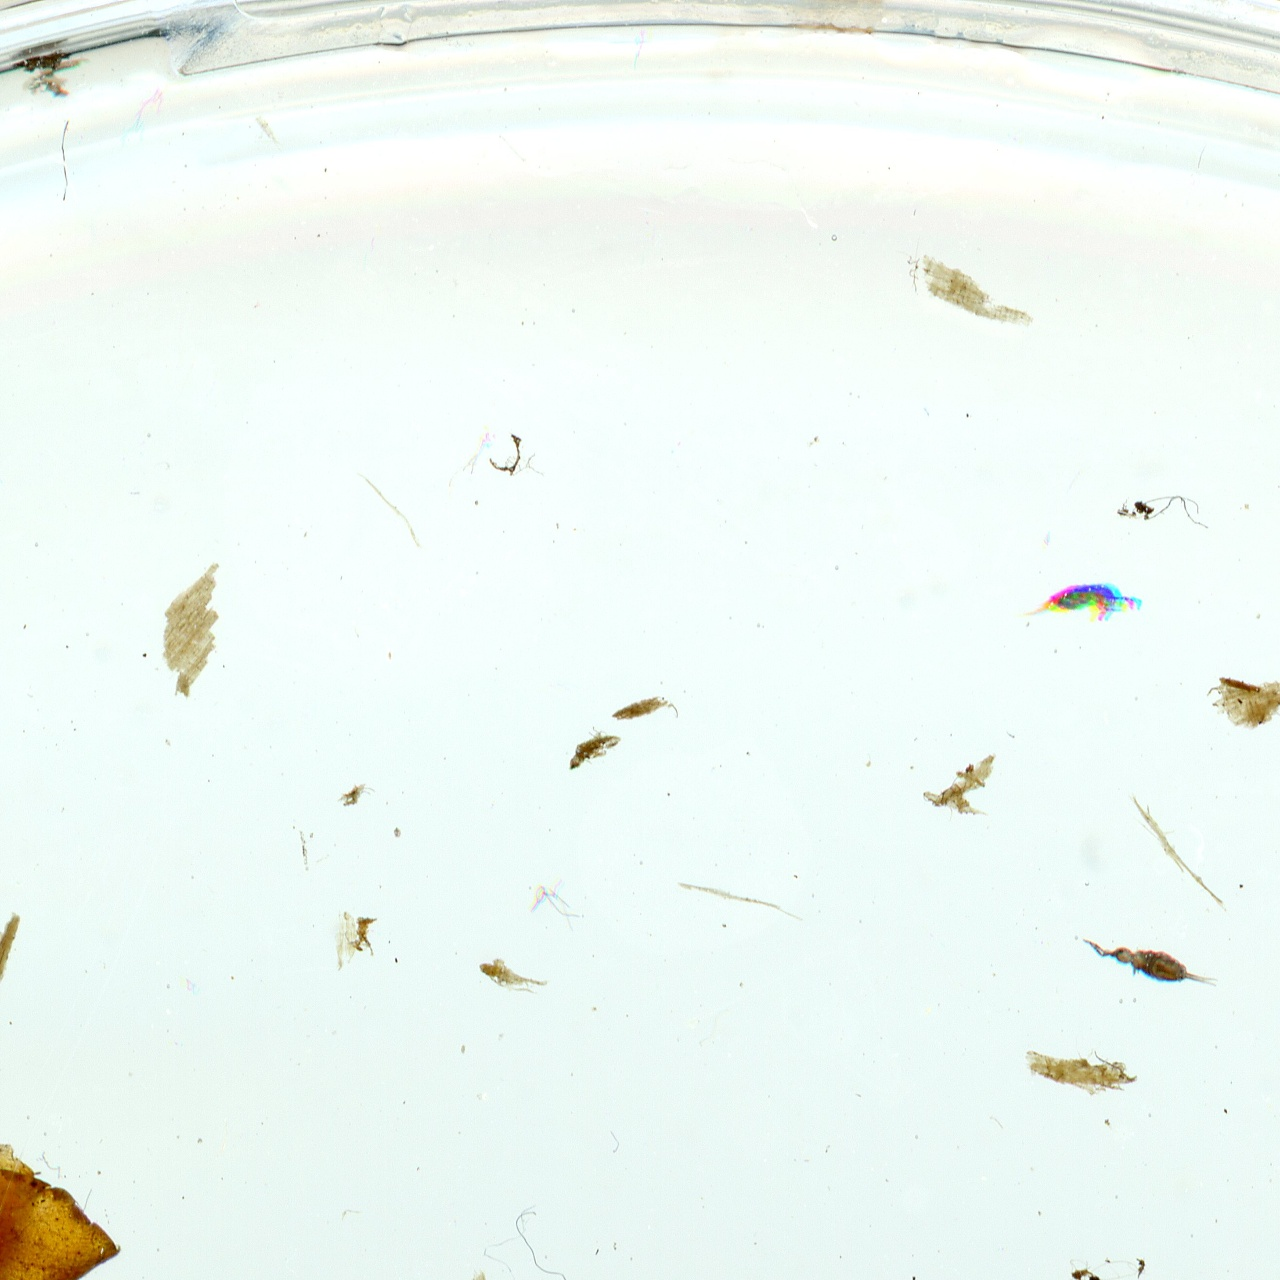arthropod: (1071, 927, 1228, 1002), (1008, 577, 1149, 626)
